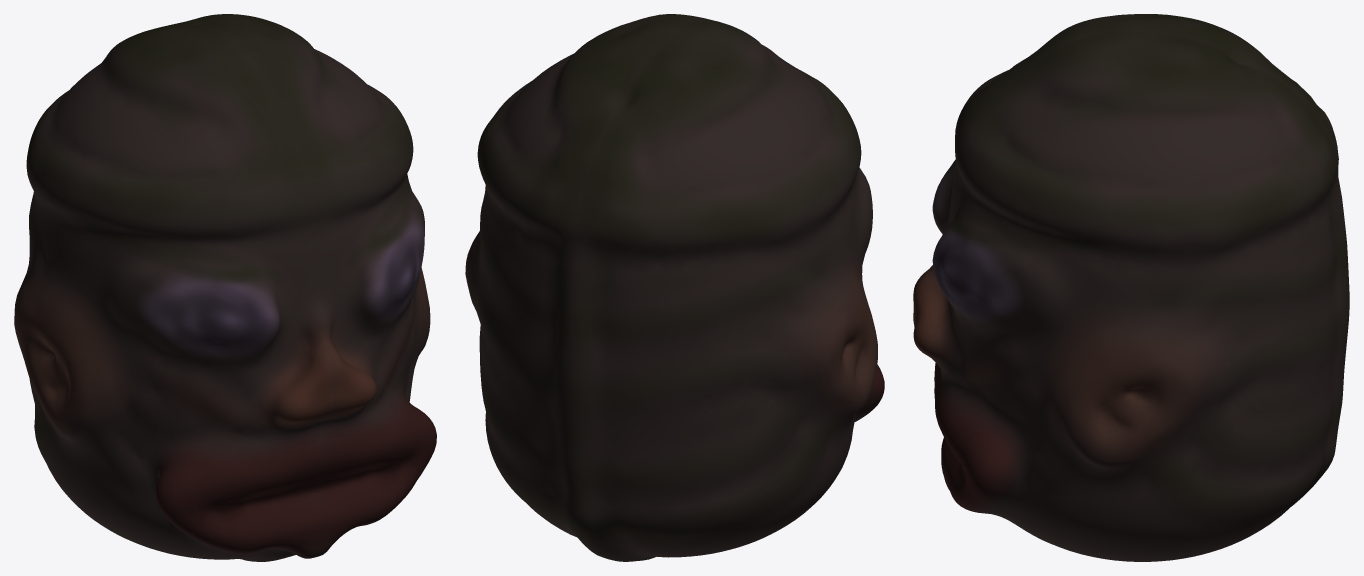
Rendered from totem_base.obj.
The picture shows the model from 3 angles, left to right: view 1: azimuth 30°, elevation 25°; view 2: azimuth 150°, elevation 25°; view 3: azimuth 270°, elevation 25°; orthographic projection.
Visible parts, largest first — view 1: totem_base; view 2: totem_base; view 3: totem_base.
Boxes of the visible parts, left/top/right/bottom form: totem_base: left=14, top=14, right=436, bottom=561; totem_base: left=465, top=14, right=884, bottom=561; totem_base: left=913, top=14, right=1349, bottom=561.
Bounding box in the file's own units: 5.51 × 7.26 × 5.56.
